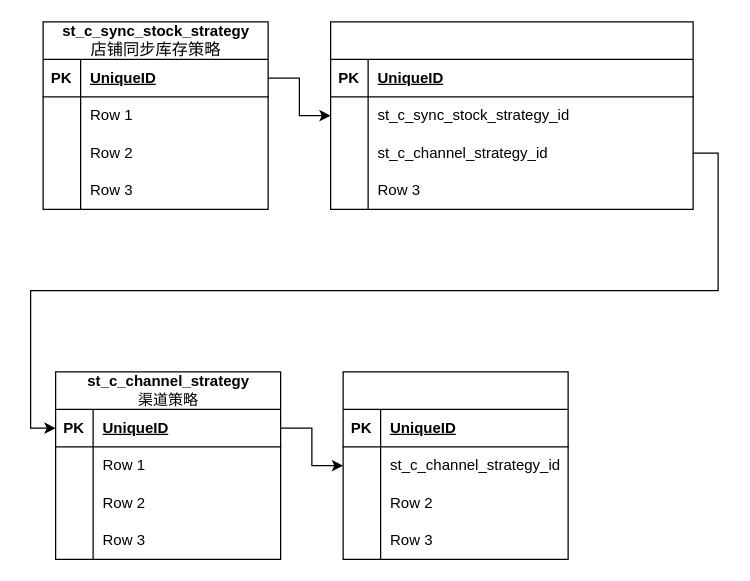
Some shapes in this 750 by 581 pixel diagram are drawn without their labels. Here are the shapes that lost their labels. From the top down, the box of each, then its label:
(329, 21, 693, 209): st_c_sync_stock_strategy_channel 店铺同步‘库存策略’和‘渠道策略’关系表
(342, 371, 568, 559): st_c_channel_strategy_item 渠道策略明细表
